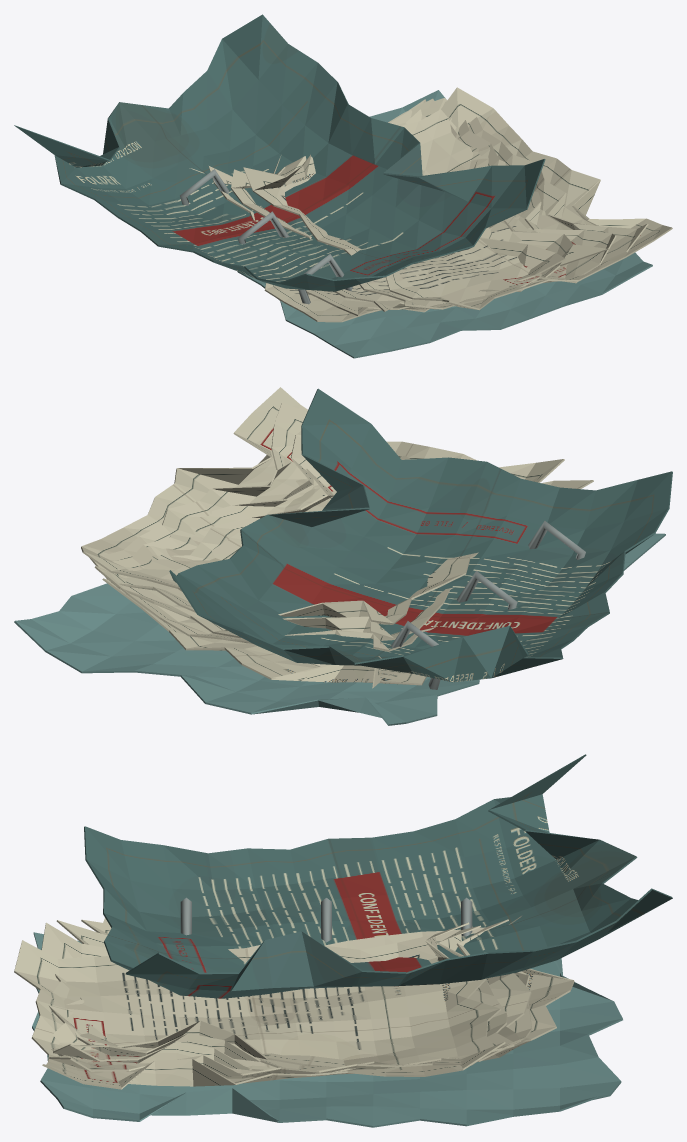
Rendered from DS_Clue_Folder_Damaged_V01.fbx.
The picture shows the model from 3 angles, top to bottom: view 1: azimuth 30°, elevation 25°; view 2: azimuth 150°, elevation 25°; view 3: azimuth 270°, elevation 25°; orthographic projection. The views are drawn at different scales.
Parts seen in each view (by area): view 1: DS_Clue_Folder_Damaged_V01; view 2: DS_Clue_Folder_Damaged_V01; view 3: DS_Clue_Folder_Damaged_V01.
Boxes of the visible parts, left/top/right/bottom form: DS_Clue_Folder_Damaged_V01: left=14, top=14, right=672, bottom=358; DS_Clue_Folder_Damaged_V01: left=14, top=387, right=672, bottom=725; DS_Clue_Folder_Damaged_V01: left=14, top=754, right=672, bottom=1127.
Size of the model in its own units: 88.33 by 25.94 by 94.07.
4 materials, 2 textured.
